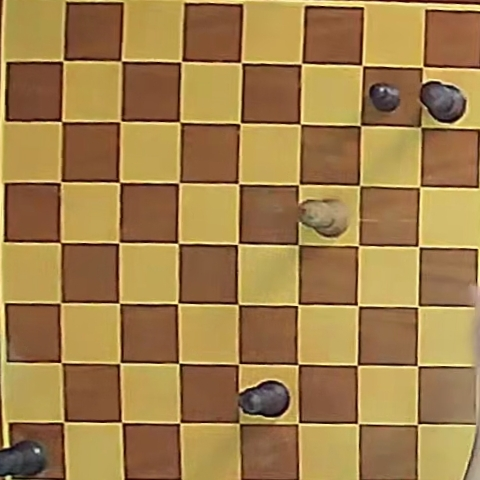black-king: (420, 81, 466, 123)
black-pawn: (369, 83, 401, 112)
black-queen: (239, 380, 290, 417), (0, 439, 48, 478)
white-king: (300, 199, 349, 236)
